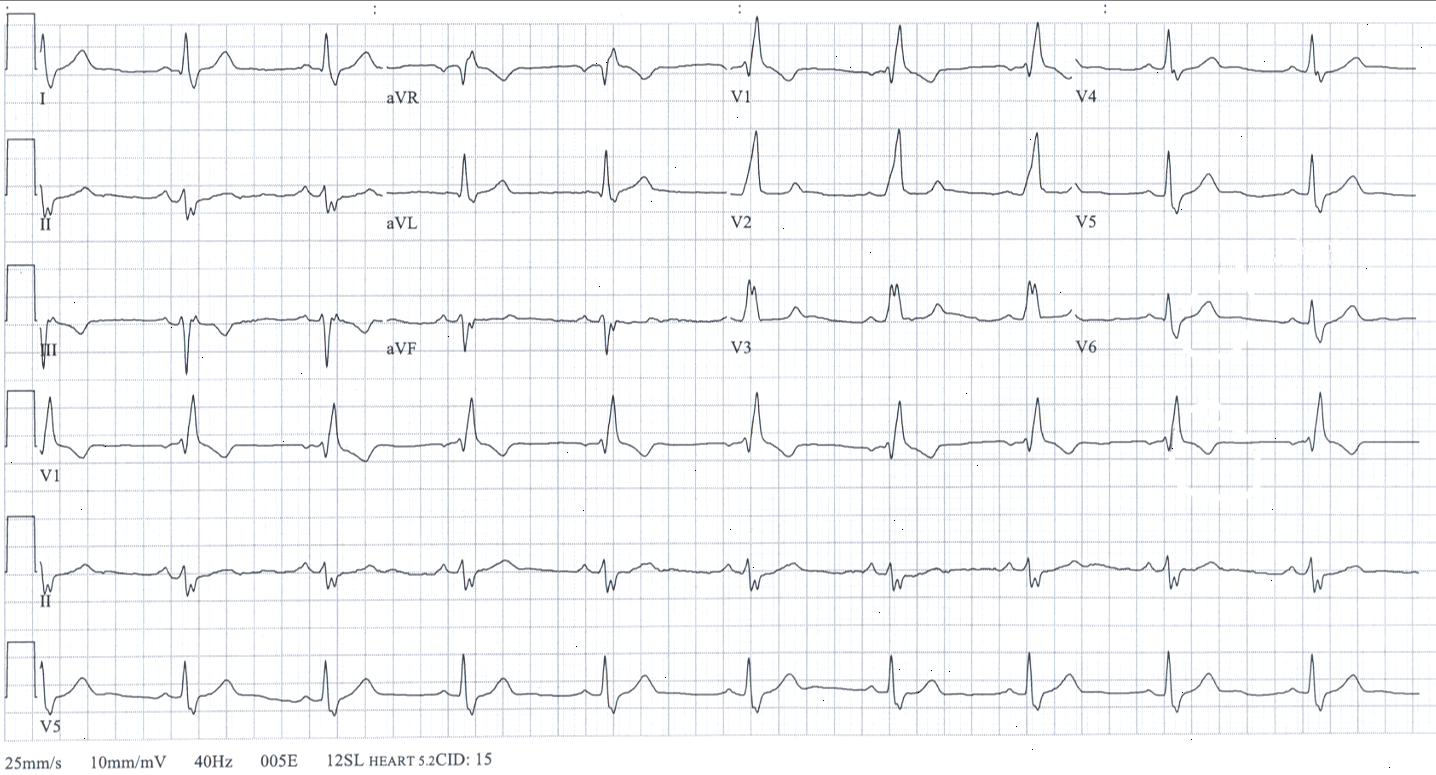Lead_I: (37, 22, 385, 140)
Lead_II: (37, 148, 387, 258)
Lead_III: (35, 278, 386, 388)
Lead_II_ext: (32, 525, 1427, 625)
Lead_V1: (728, 3, 1074, 126), (32, 394, 385, 505)
Lead_V2: (726, 126, 1072, 260)
Lead_V3: (722, 272, 1075, 366)
Lead_V4: (1071, 11, 1425, 128)
Lead_V5: (1074, 131, 1417, 259), (34, 643, 386, 741)
Lead_V6: (1071, 258, 1426, 385)
Lead_aVF: (381, 282, 725, 371)
Lead_aVL: (383, 151, 726, 253)
Lead_aVR: (384, 21, 720, 126)
